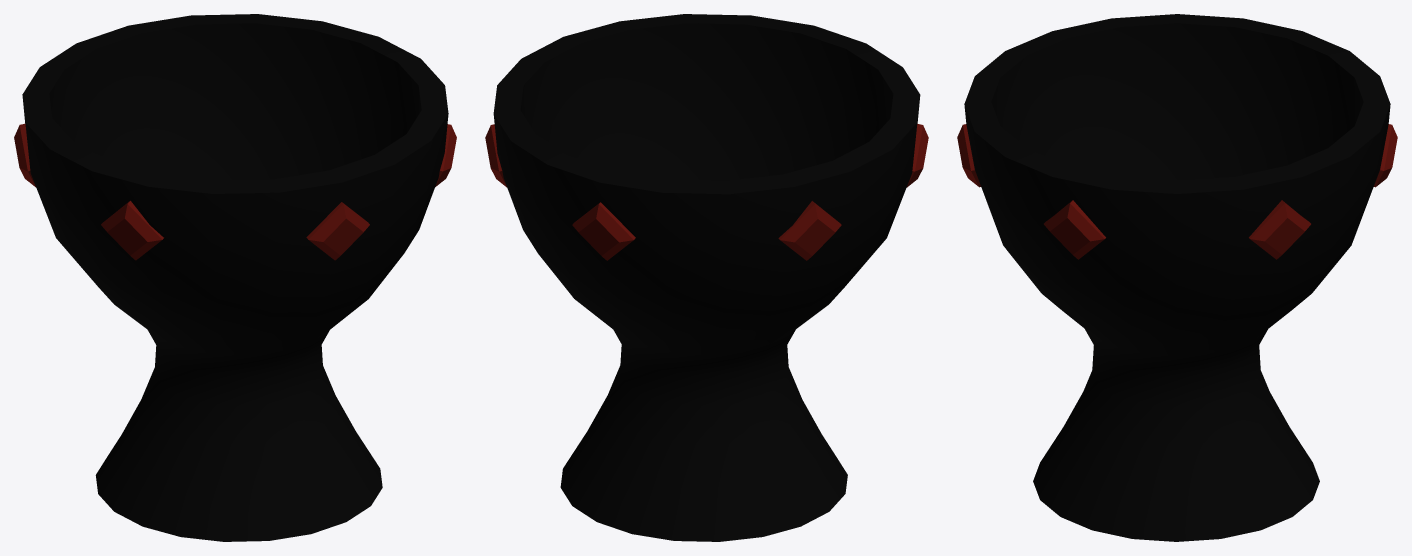
The model's file is treasure_chest_cup.fbx.
3 renders of one model, left to right at view 1: azimuth 30°, elevation 25°; view 2: azimuth 150°, elevation 25°; view 3: azimuth 270°, elevation 25°, orthographic.
Parts seen in each view (by area): view 1: treasure_chest_cup; view 2: treasure_chest_cup; view 3: treasure_chest_cup.
Part boxes in pixels (<box>): treasure_chest_cup: <box>14,14,456,541</box>; treasure_chest_cup: <box>485,14,928,541</box>; treasure_chest_cup: <box>957,14,1397,541</box>.
Bounding box in the file's own units: 21.62 × 21.15 × 22.35.
